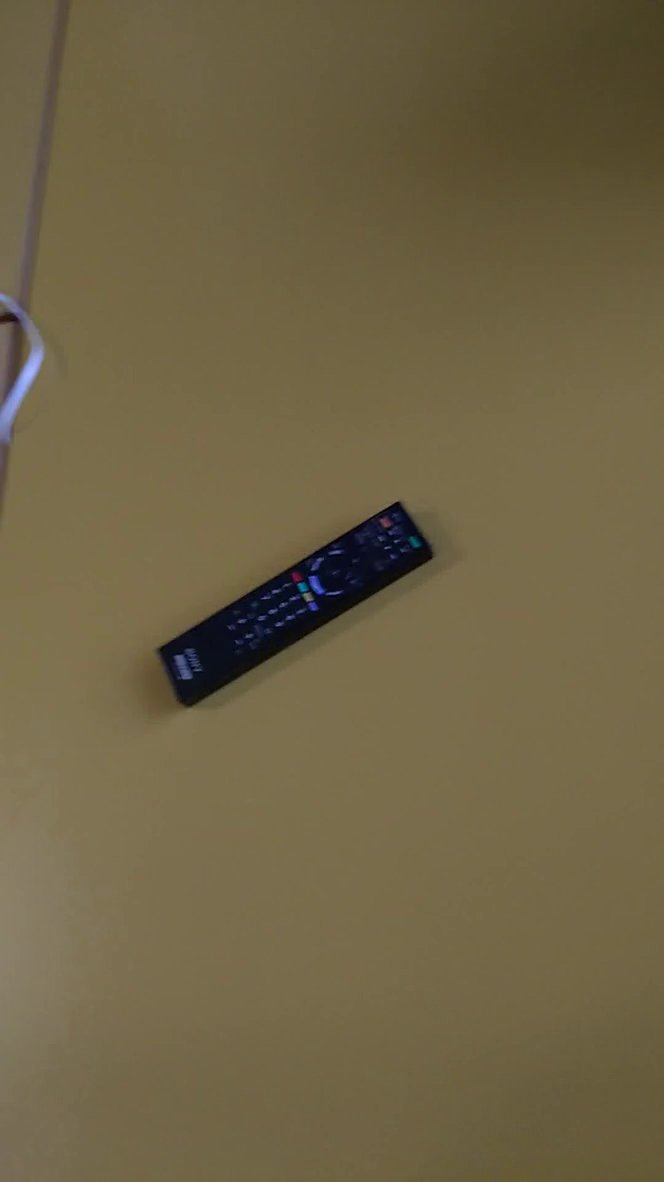remote: (144, 486, 455, 722)
